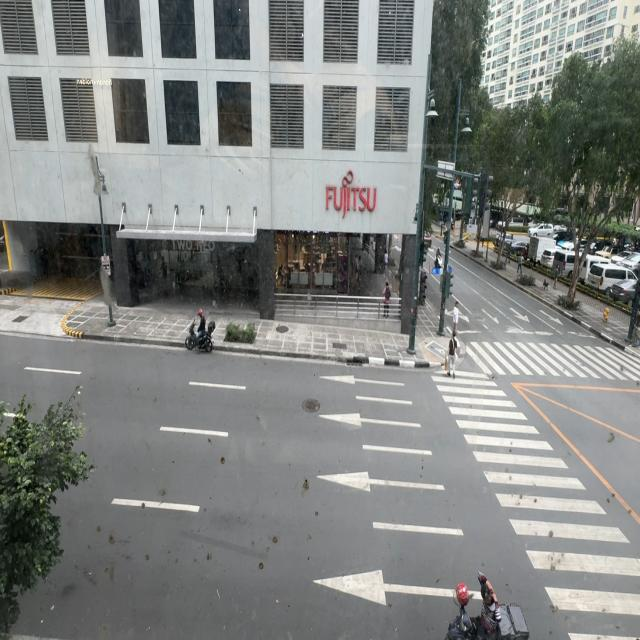crossing: (447, 331, 458, 377)
pedestrain: (554, 264, 560, 289), (516, 252, 522, 274)
waiting: (452, 301, 460, 335)
